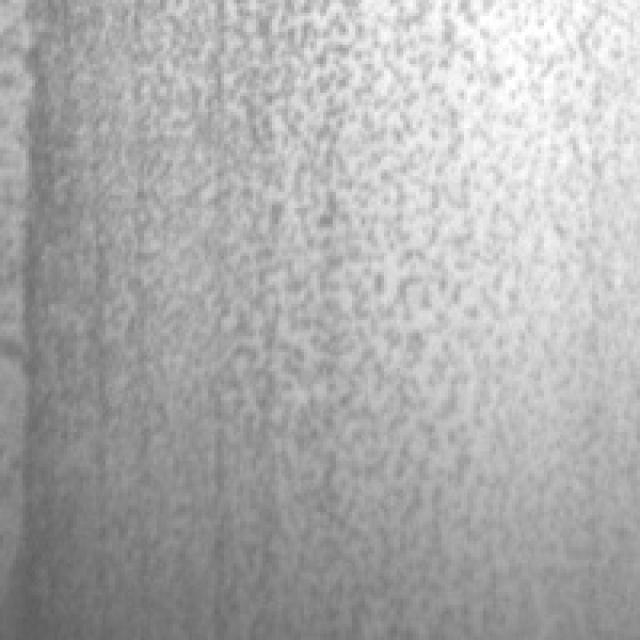pitted_surface: (22, 0, 637, 624)
